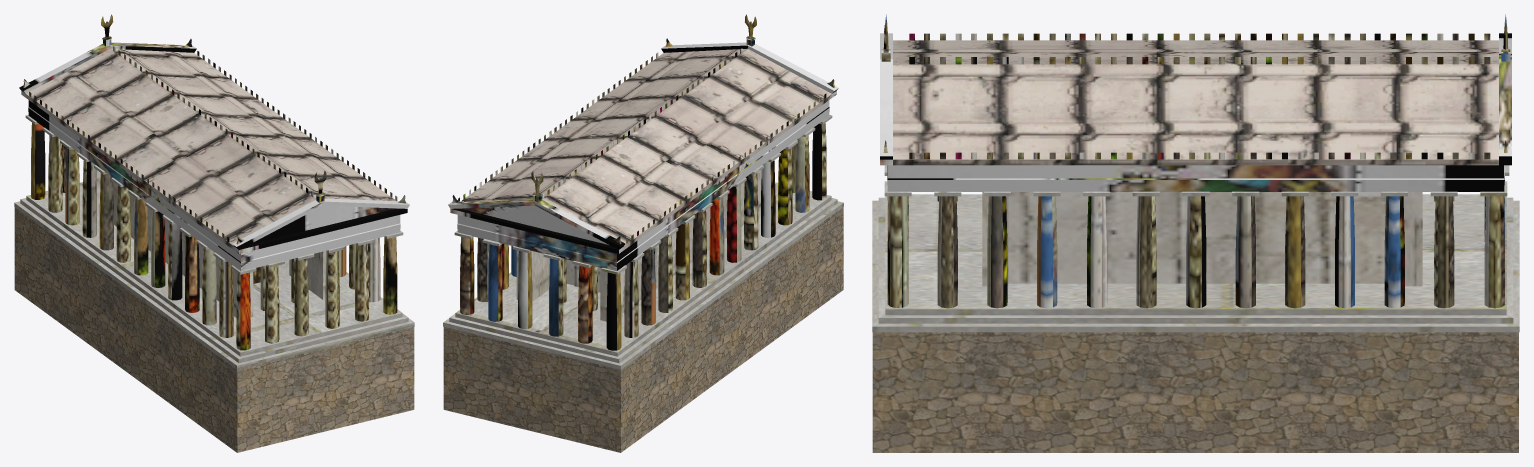
File: temple.glb
The picture shows the model from 3 angles, left to right: view 1: azimuth 30°, elevation 25°; view 2: azimuth 150°, elevation 25°; view 3: azimuth 270°, elevation 25°; orthographic projection. The views are drawn at different scales.
Parts seen in each view (by area): view 1: temple; view 2: temple; view 3: temple.
Boxes of the visible parts, x1=… form: temple: x1=14, y1=14, x2=414, y2=452; temple: x1=443, y1=14, x2=843, y2=452; temple: x1=872, y1=14, x2=1519, y2=452.
Size of the model in its own units: 2.3 by 3.18 by 5.
Materials: 7 (7 with a texture image).
